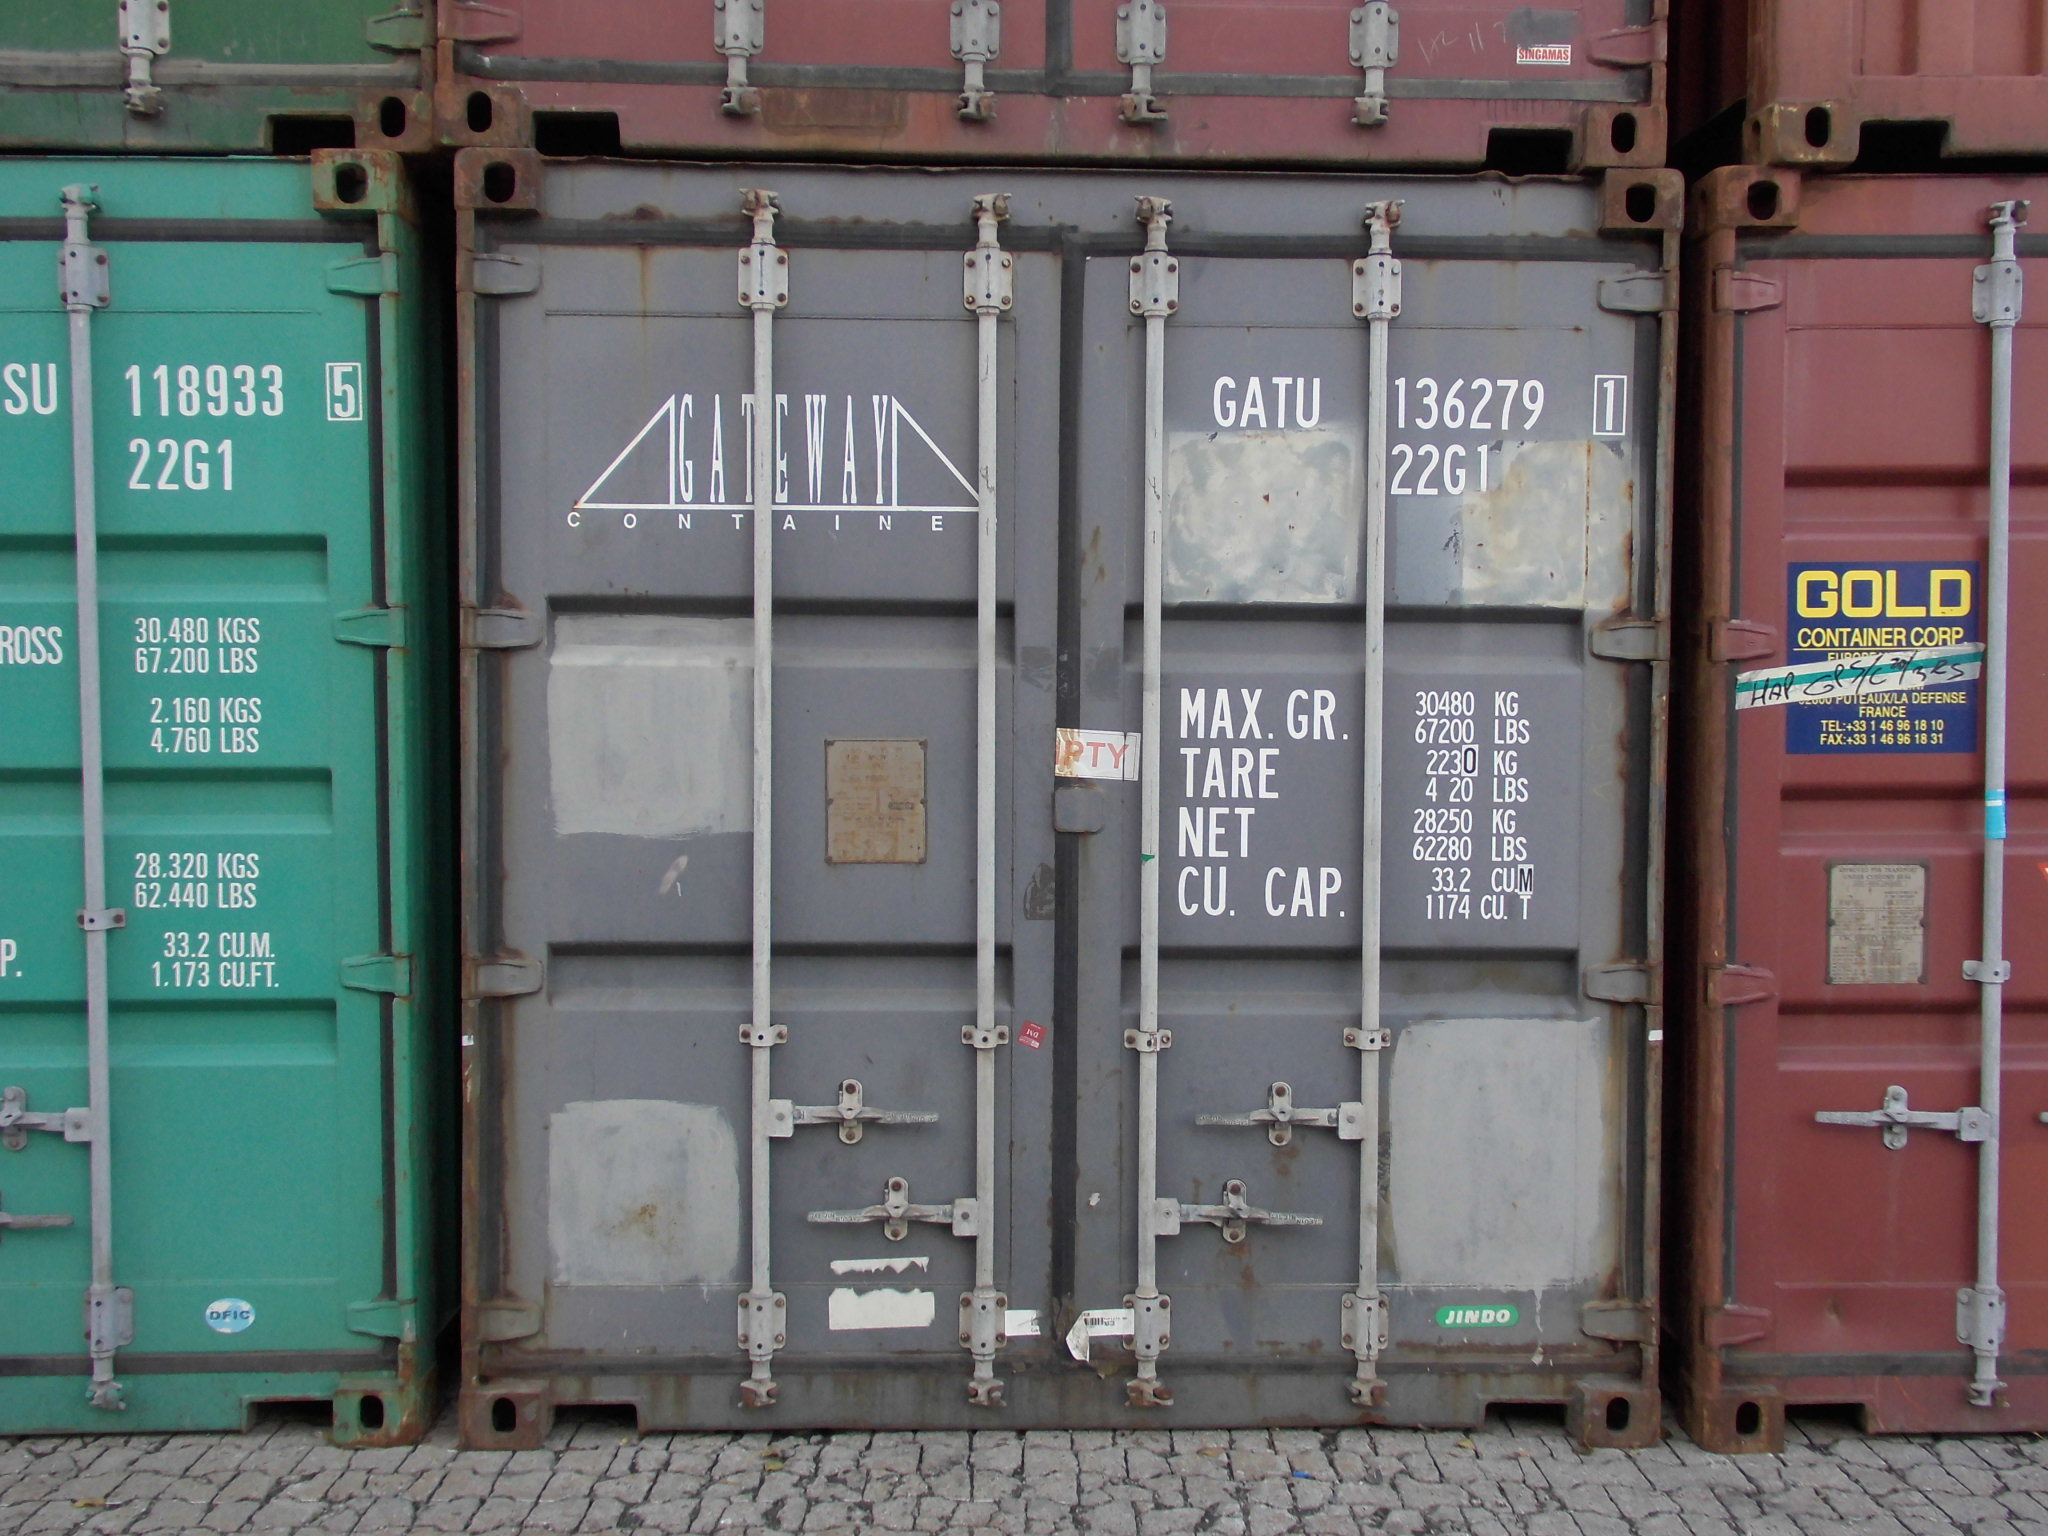container_door: (429, 165, 1690, 1454)
